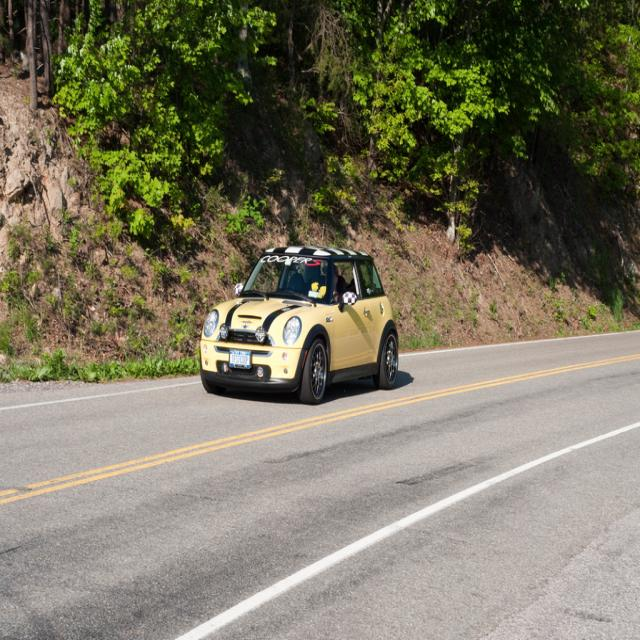other: (200, 224, 400, 402)
